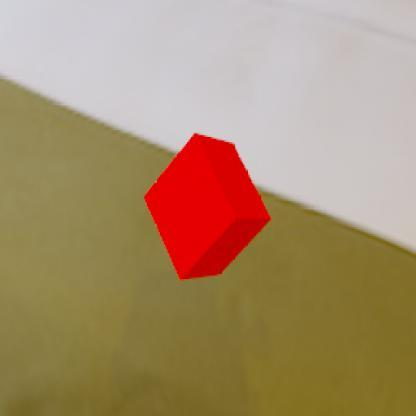red_cube: (142, 132, 270, 281)
